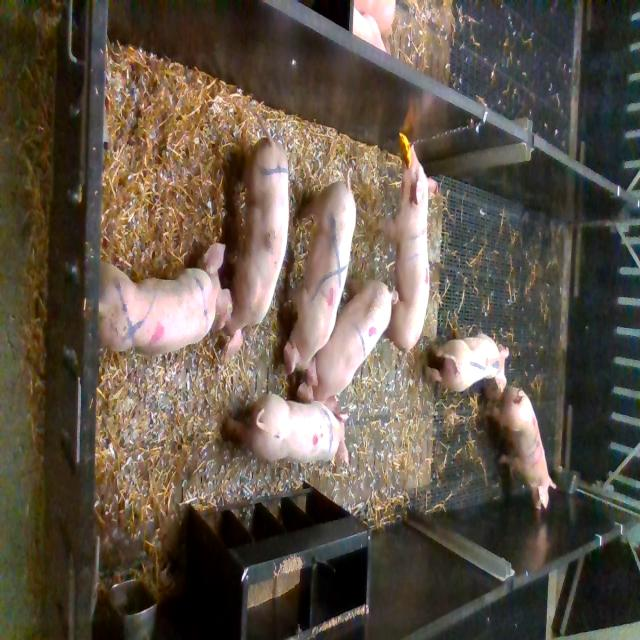pig: (211, 108, 289, 359), (284, 168, 357, 386), (98, 242, 233, 356), (297, 277, 399, 420), (378, 144, 430, 353), (485, 384, 557, 511), (227, 393, 350, 465), (423, 334, 510, 393)
